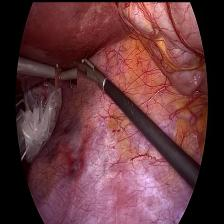Grasper: (73, 51, 102, 86)
Irrigator: (54, 63, 76, 87)
Specimen Bag: (12, 80, 62, 170)
